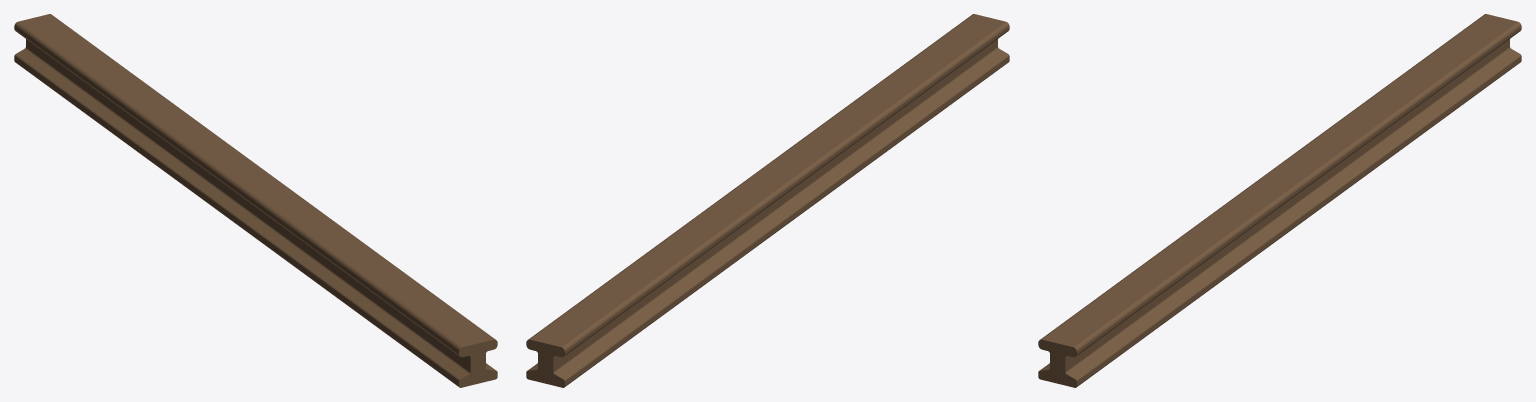
Rendered from track.glb.
The picture shows the model from 3 angles, left to right: view 1: azimuth 30°, elevation 25°; view 2: azimuth 150°, elevation 25°; view 3: azimuth 330°, elevation 25°; orthographic projection.
Visible parts, largest first — view 1: Object_2; view 2: Object_2; view 3: Object_2.
Part boxes in pixels (x1=…): Object_2: x1=14, y1=14, x2=497, y2=387; Object_2: x1=526, y1=14, x2=1009, y2=387; Object_2: x1=1038, y1=14, x2=1521, y2=387.
Bounding box in the file's own units: 100 × 100 × 2000.
